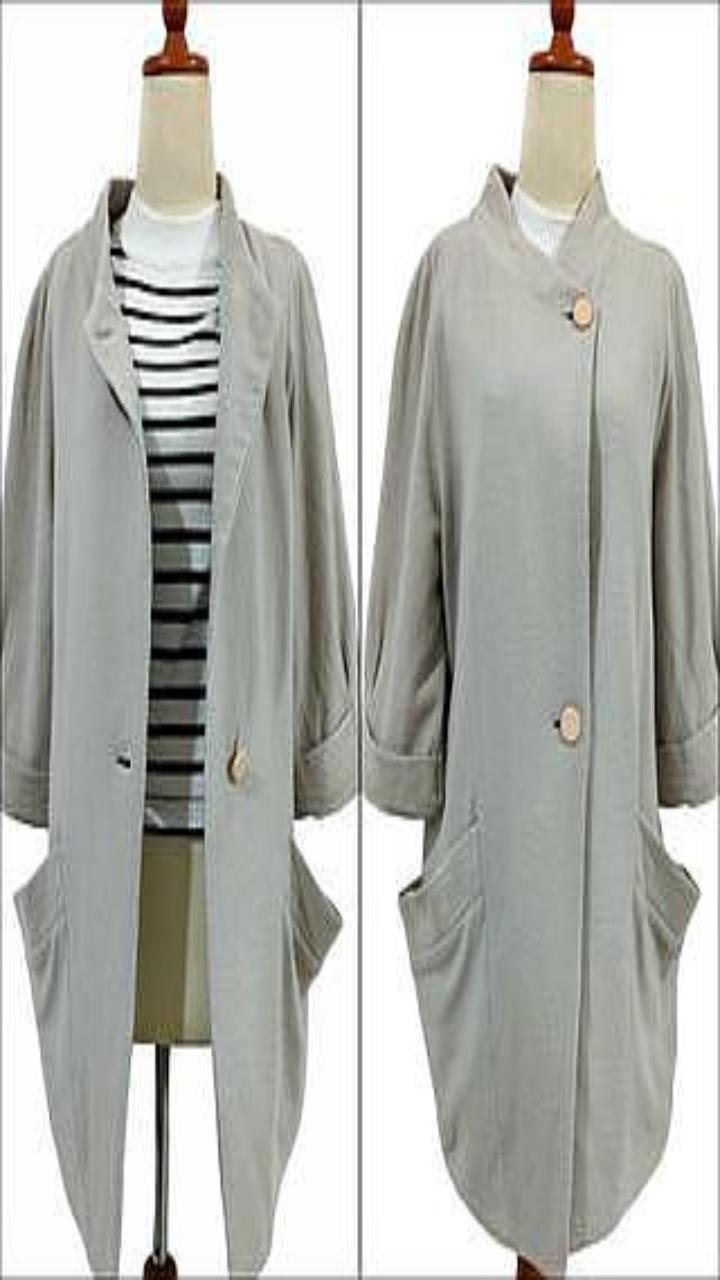Coat: (363, 166, 719, 1273), (203, 174, 357, 1272)
T-Shirt: (111, 191, 219, 833)
